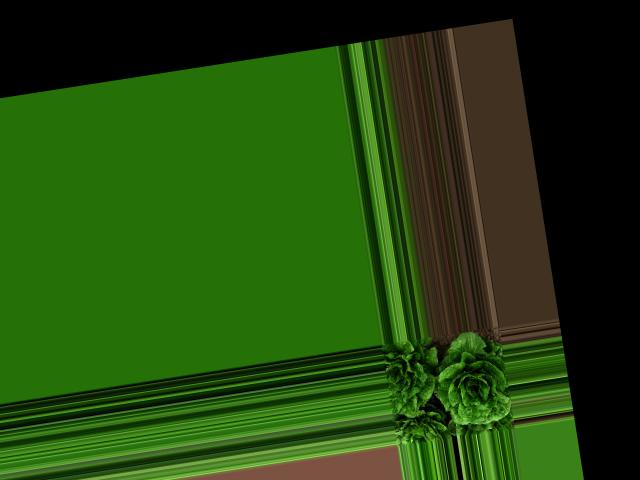lettuce: (380, 339, 440, 420)
